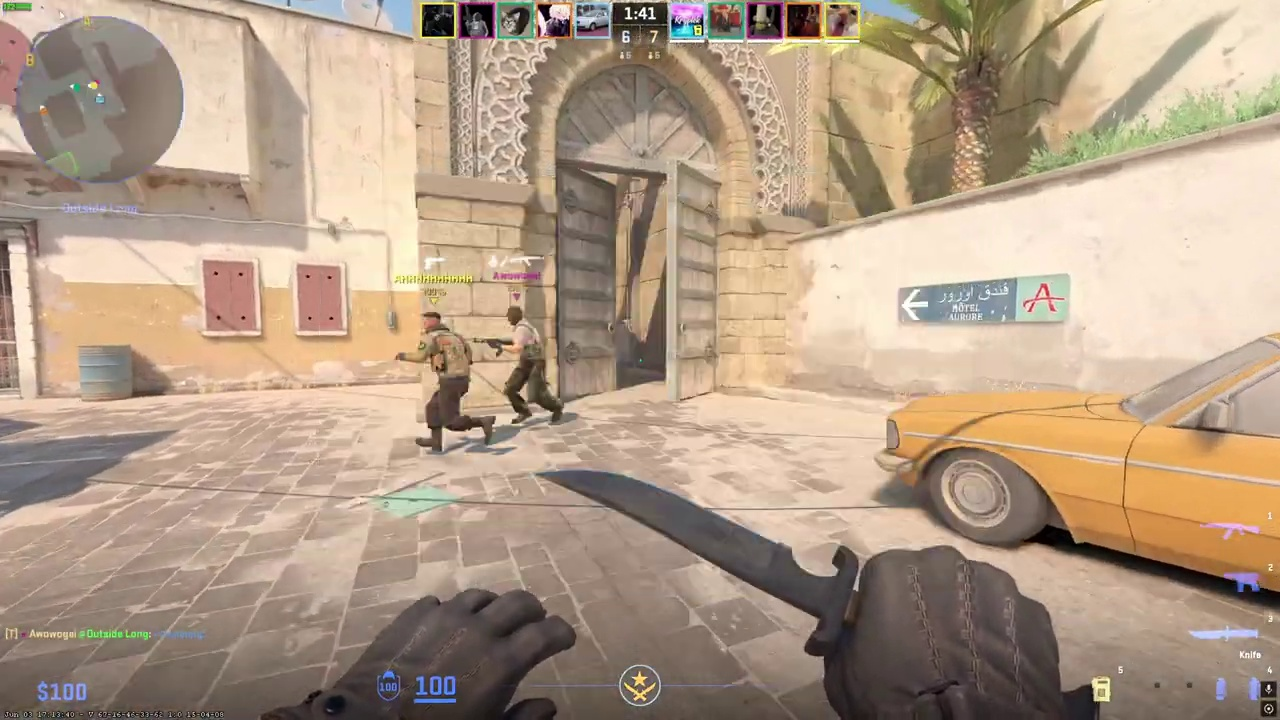Terrorist: (408, 310, 480, 455), (497, 304, 562, 427)
